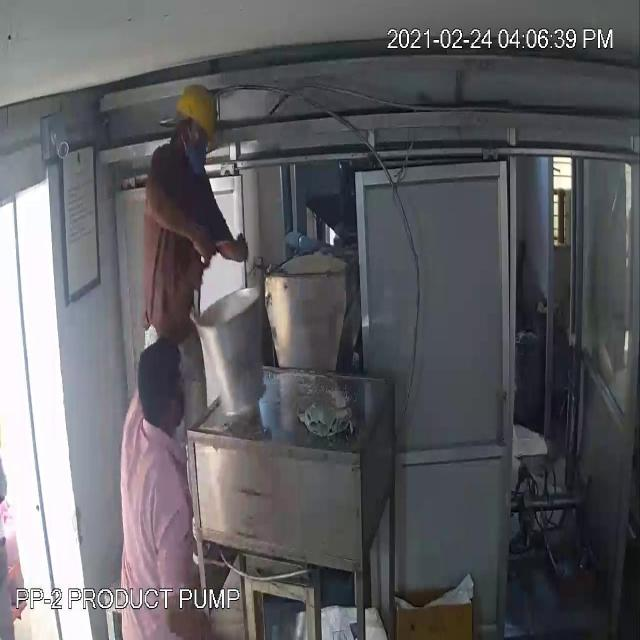helmet: (173, 75, 224, 157)
